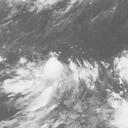cyclone: (36, 56, 70, 96)
